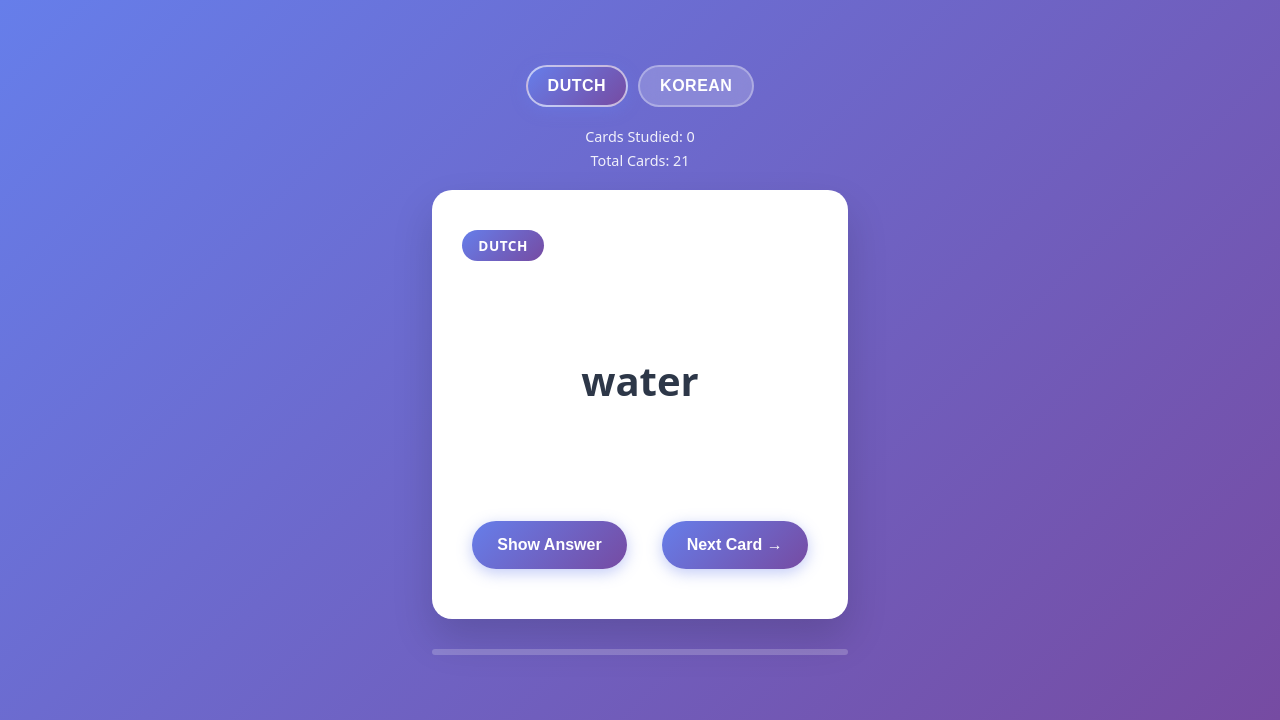
Test: Flashcard App › Language Switching › hides answer when switching languages
This screenshot has width=1280, height=720.
# Show answer in Dutch
Click the button "Show Answer" at (549, 545), box x1=472 y1=521 x2=627 y2=569
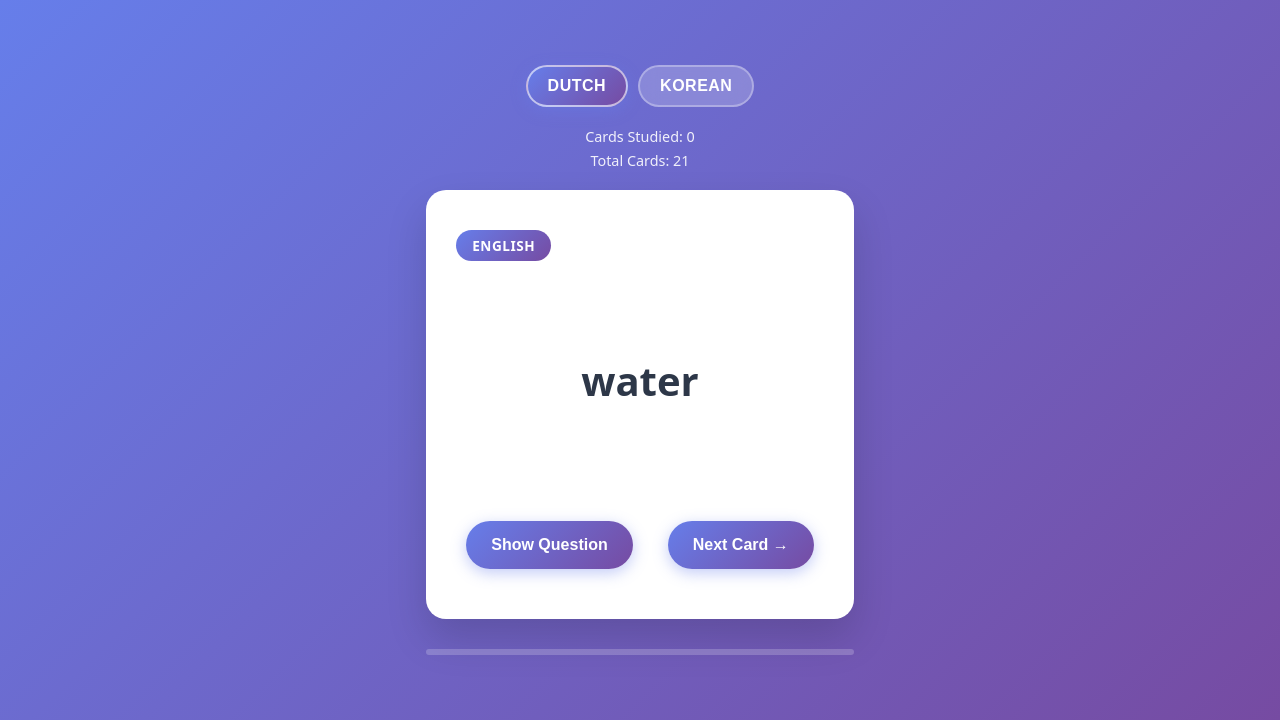
Expected: the button "Show Question" is shown, x1=466 y1=521 x2=633 y2=569
# Switch to Korean
Click the button "Korean" at (696, 86), box x1=638 y1=65 x2=754 y2=107
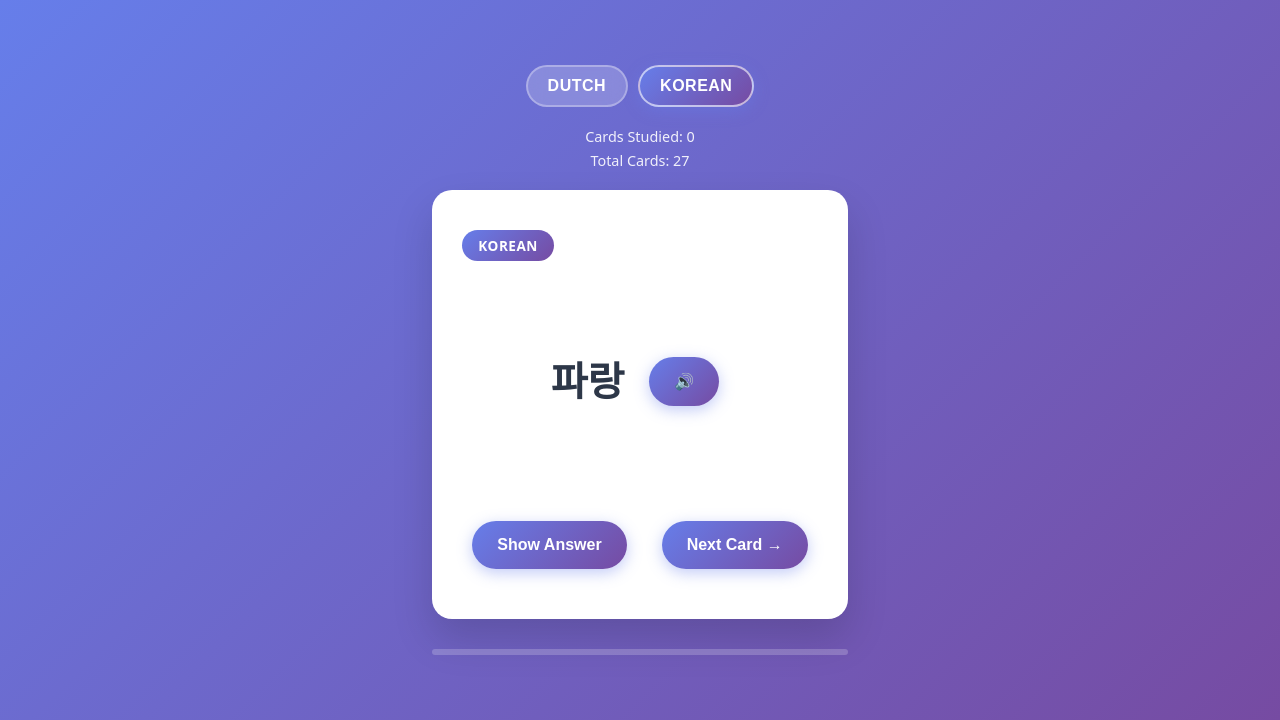
Expected: the button "Show Answer" is shown, x1=472 y1=521 x2=627 y2=569
